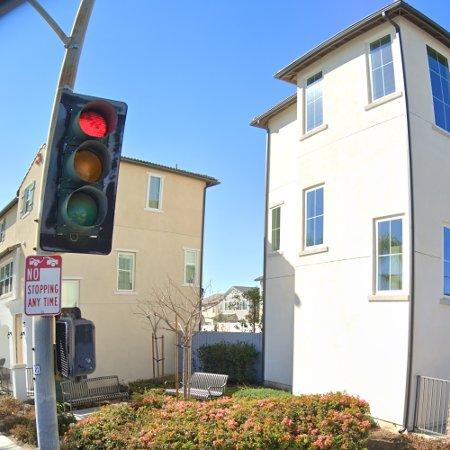traffic lights: (38, 90, 128, 256), (376, 217, 398, 298)
